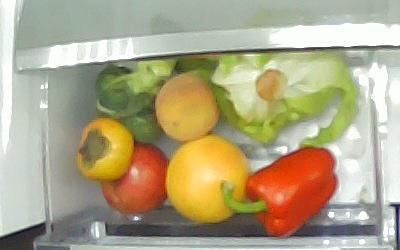apple: (100, 143, 170, 214)
broccoli: (96, 55, 177, 141)
grapefruit: (165, 136, 249, 223)
lettuce: (212, 49, 360, 147)
paprika: (220, 145, 339, 237)
peach: (154, 73, 221, 140)
persimmon: (78, 118, 134, 180)
